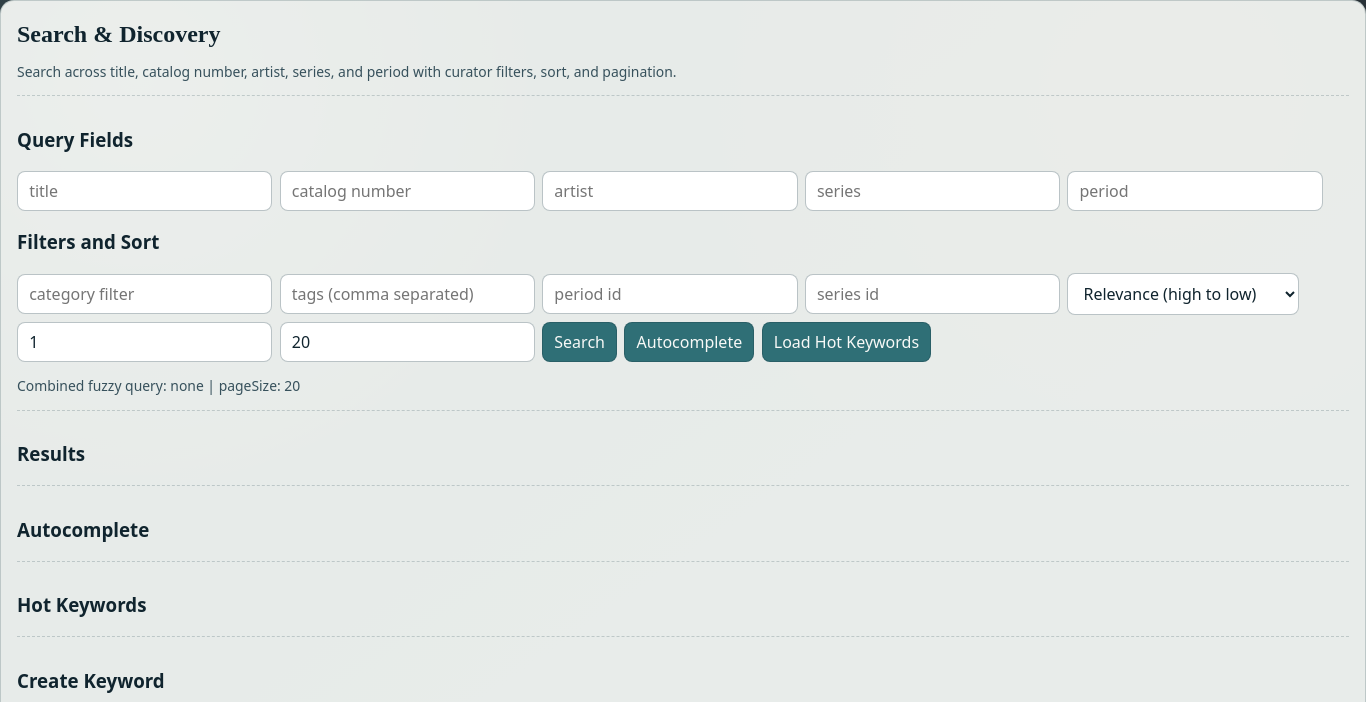
Test: SearchDiscoveryTab › enforces page size boundary in UI: 51 allowed and 52 blocked
Type "Boundary" into the field with placeholder "title" at x=145, y=191, box [17, 171, 272, 211]
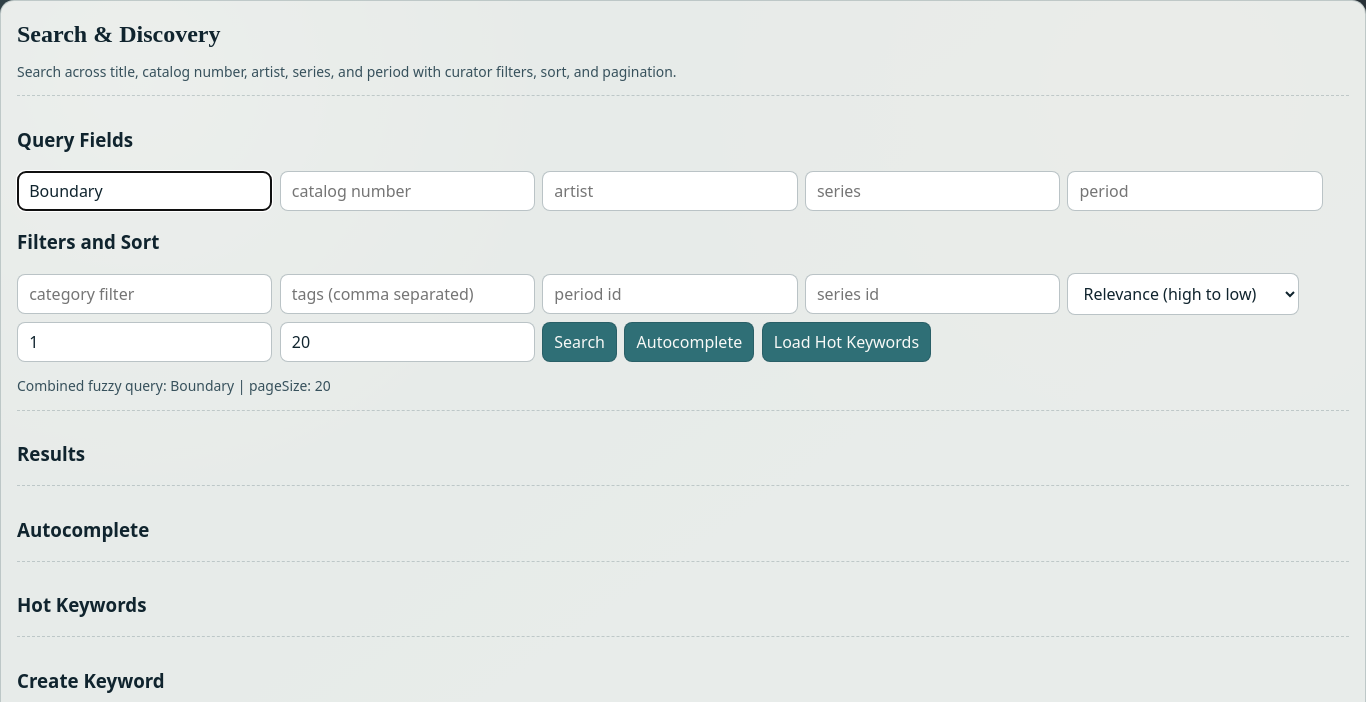
Replace the text in the 3rd field with placeholder "page size (max 51)" with "51" at x=407, y=342, box [280, 322, 535, 362]
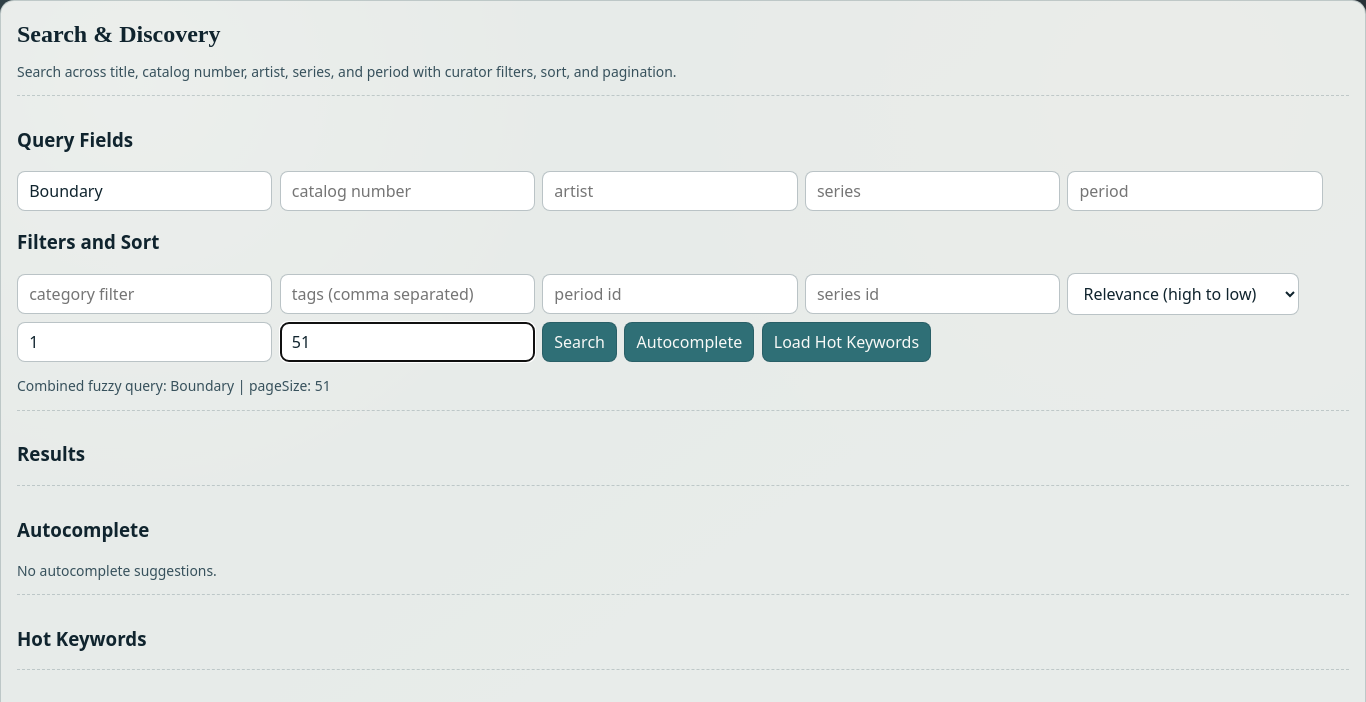
Click the button "Search" at x=580, y=342, box [542, 322, 617, 362]
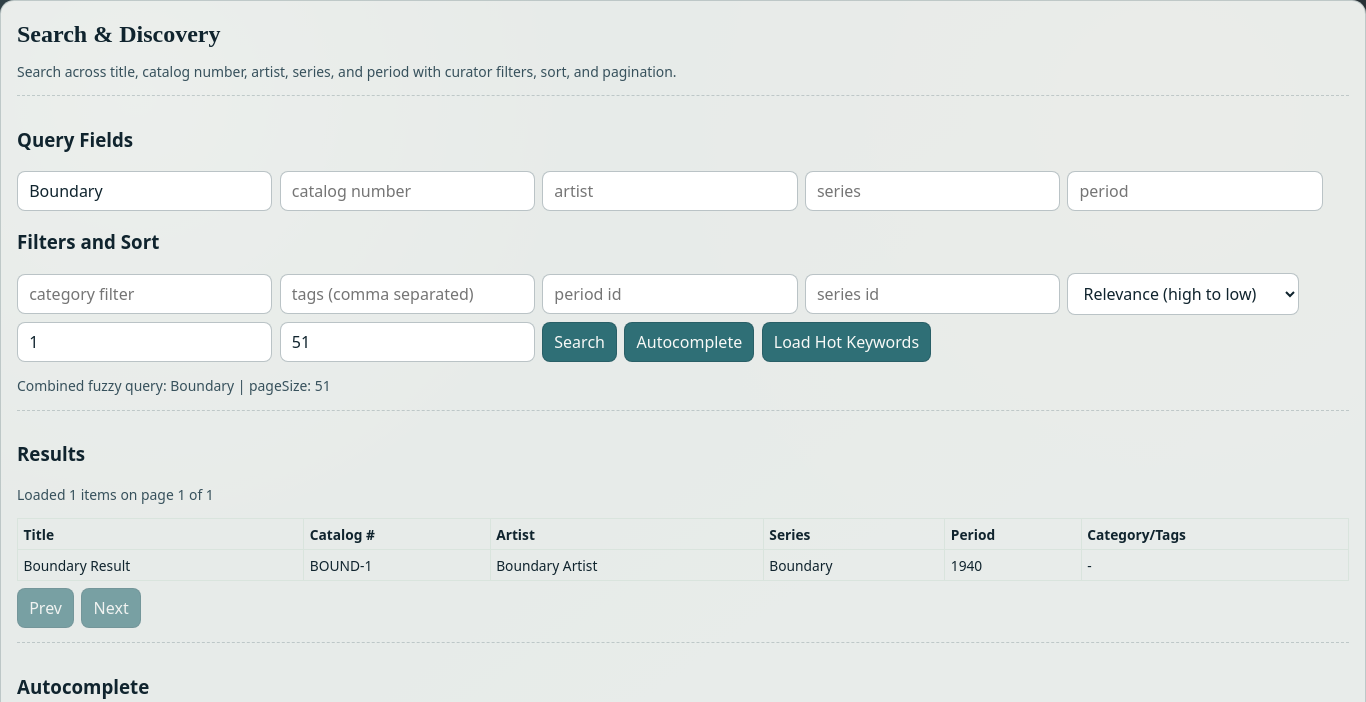
Now the text "Boundary Result" is shown, box [18, 550, 304, 581]
Replace the text in the 3rd field with placeholder "page size (max 51)" with "52" at x=407, y=342, box [280, 322, 535, 362]
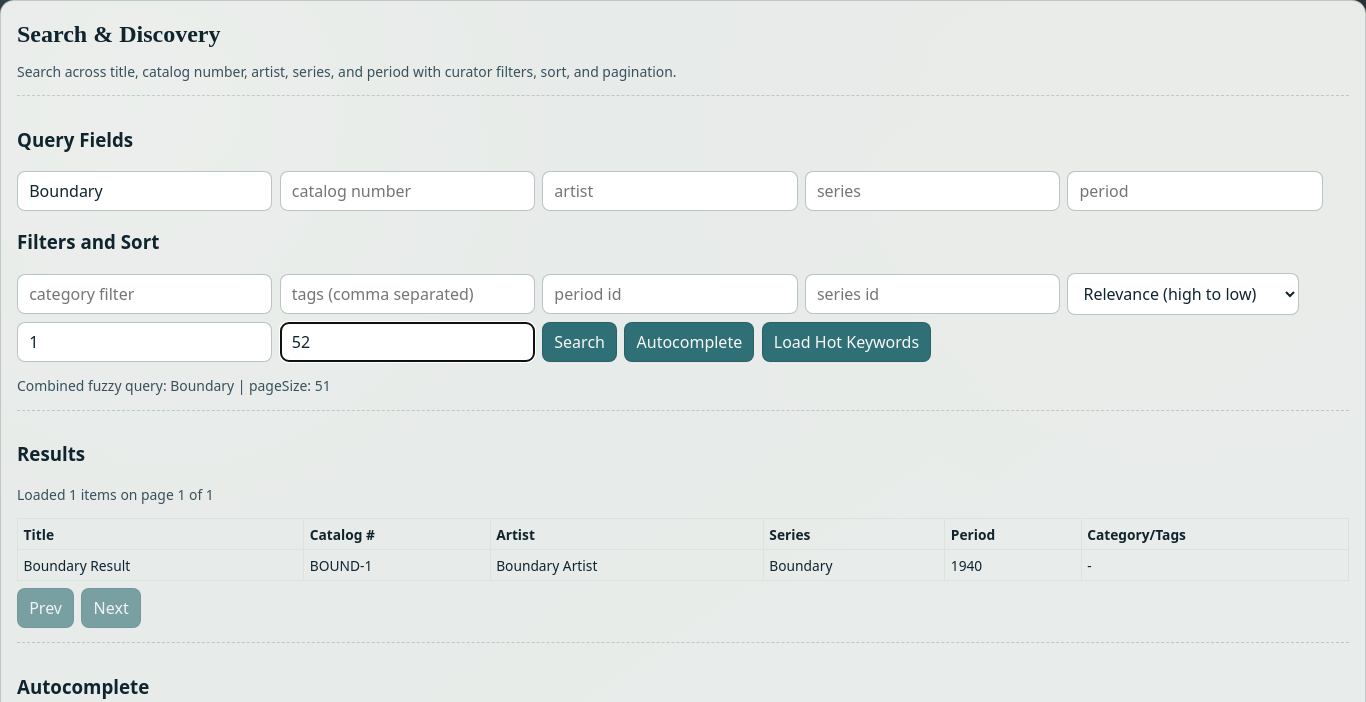
Click the button "Search" at x=580, y=342, box [542, 322, 617, 362]
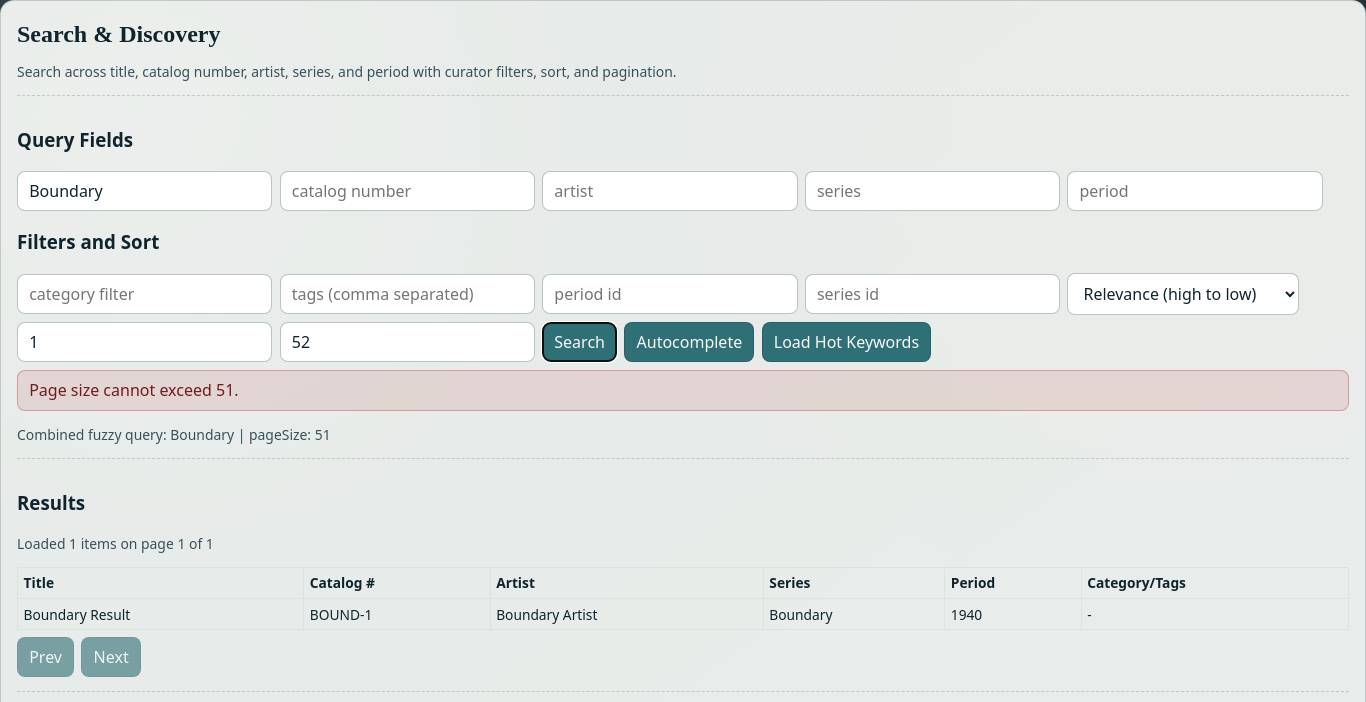
Now the text "Page size cannot exceed 51." is shown, box [17, 370, 1349, 411]
